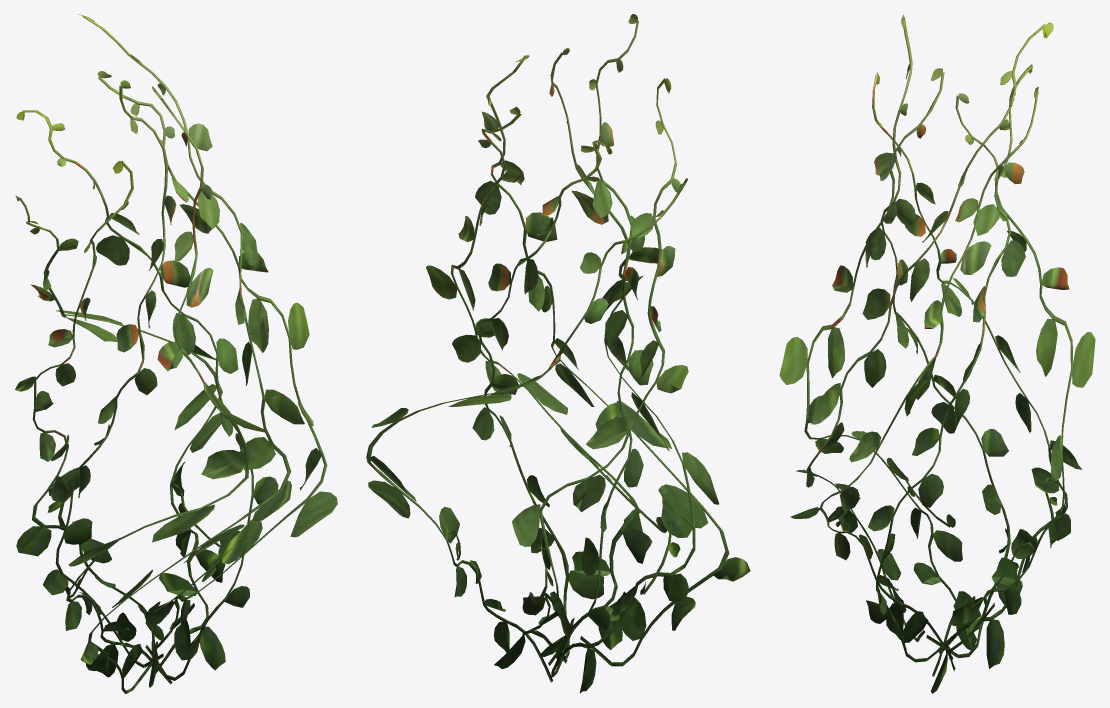
Rendered from plant_57.fbx.
3 renders of one model, left to right at view 1: azimuth 30°, elevation 25°; view 2: azimuth 150°, elevation 25°; view 3: azimuth 270°, elevation 25°, orthographic. The views are drawn at different scales.
Parts seen in each view (by area): view 1: aquatic31; view 2: aquatic31; view 3: aquatic31.
Part boxes in pixels (box(x1,y1,x2,y2)): aquatic31: box(15, 14, 337, 693); aquatic31: box(366, 14, 750, 693); aquatic31: box(779, 14, 1095, 693).
Bounding box in the file's own units: 6.1 × 13.83 × 6.21.
